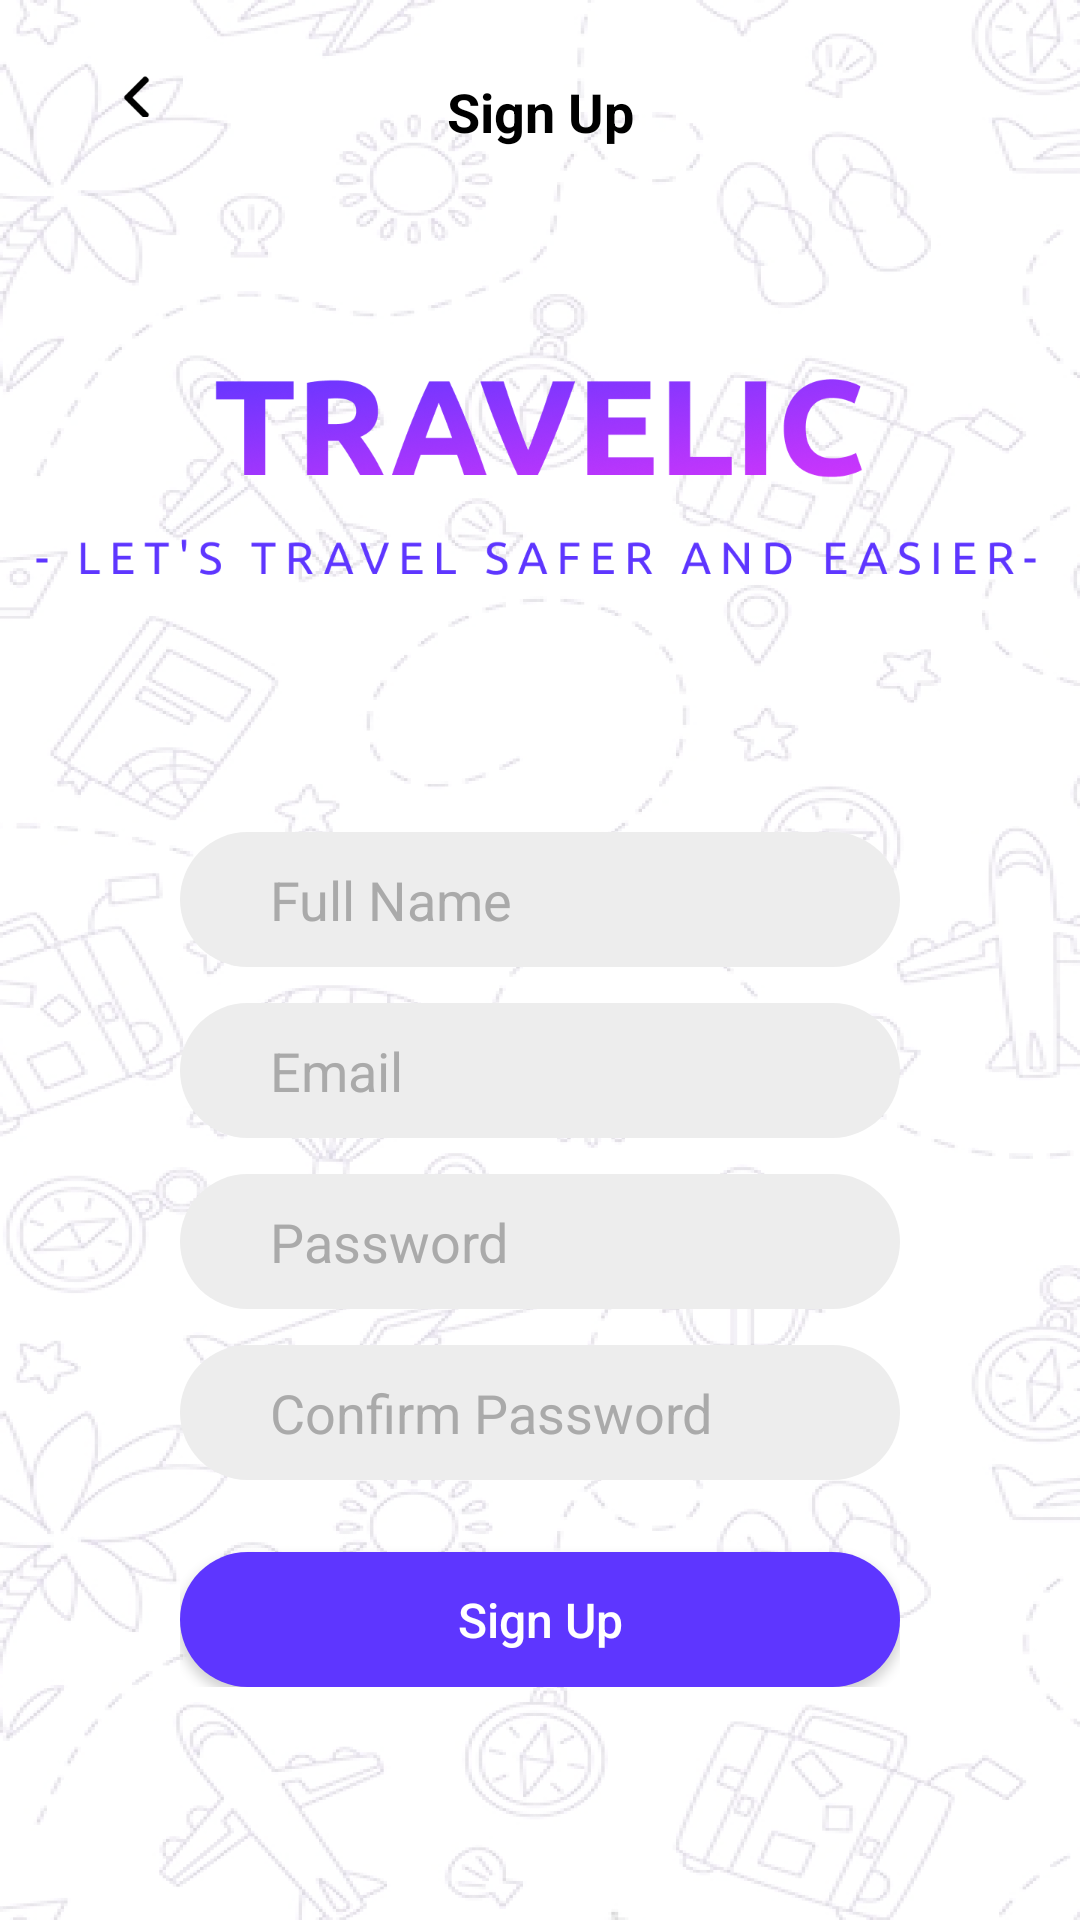

Icon click points for this 1080 x 1920 phone screenshot, format [x,y]:
back: [133,96]
